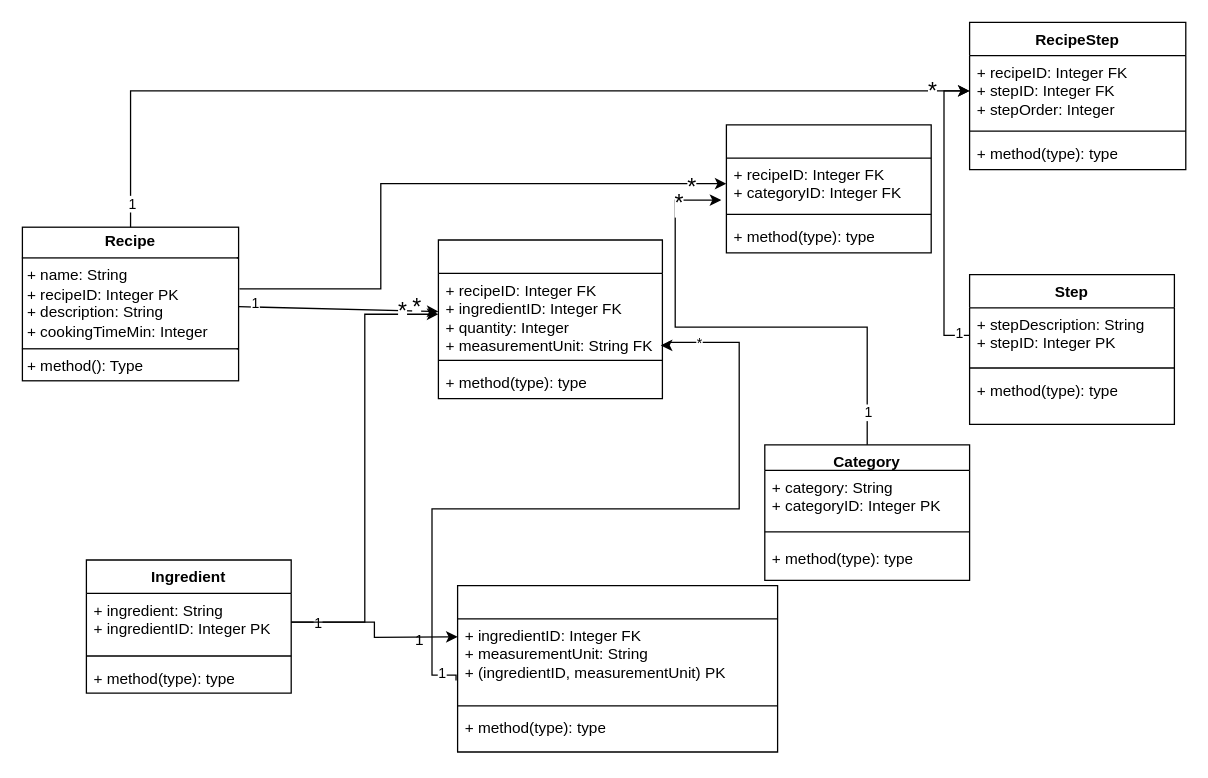
Image size: 1208x778. Some labels were removed from this diagram. Here are the shapes that lost their labels. From the top down, the box of each, then its label:
(725, 124, 931, 253): recipeCategory
(437, 239, 662, 399): recipeIngredient
(456, 584, 778, 752): IngredientMeasurement
